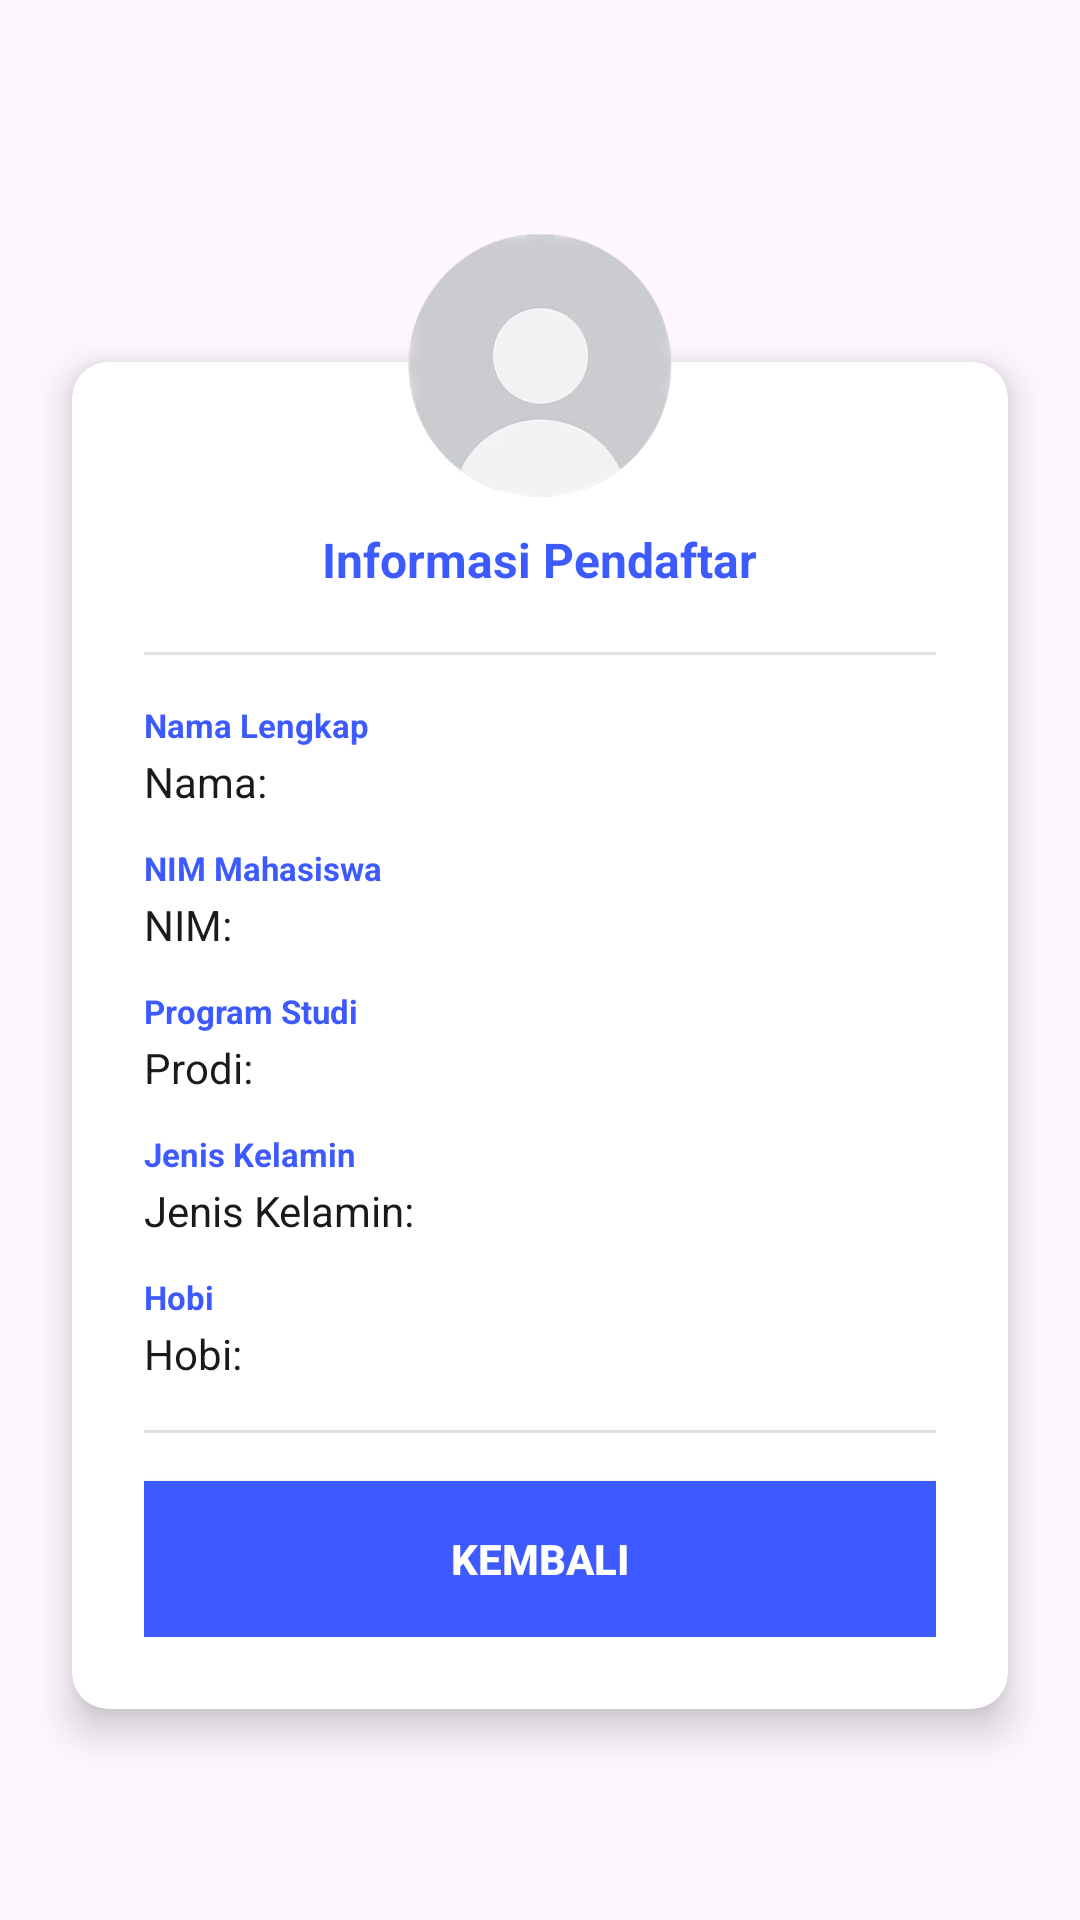

Icons on this 1080x1920 Android screen, each with its box as (x1, y1, x2, y2):
profile: (405, 234, 675, 486)
